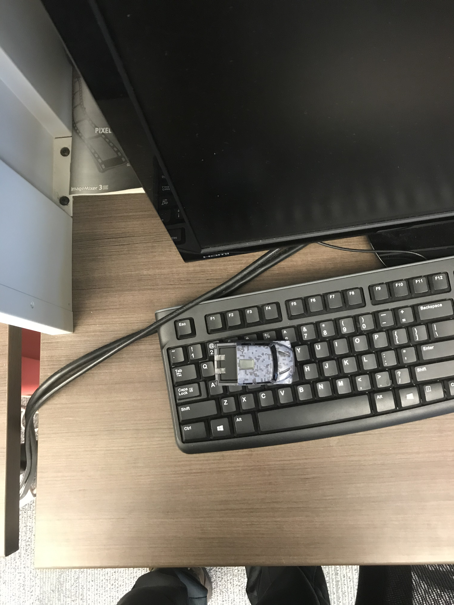MXT: (214, 338, 299, 387)
